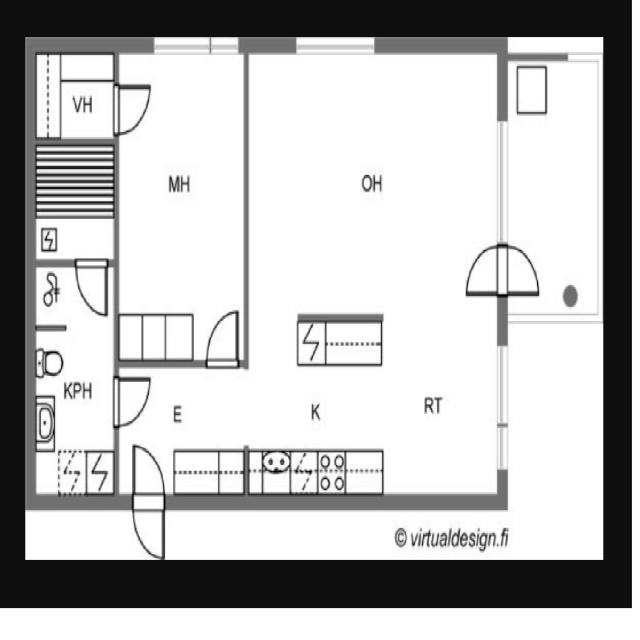door: (128, 440, 169, 560), (481, 238, 546, 296), (109, 365, 155, 431), (201, 304, 243, 372), (459, 241, 508, 297), (72, 256, 114, 318), (110, 78, 154, 136)
window: (489, 111, 515, 251), (288, 30, 380, 69), (148, 32, 244, 67), (492, 338, 512, 474), (560, 37, 606, 68), (492, 420, 512, 477)
zone: (243, 50, 500, 311), (236, 314, 501, 498), (115, 48, 248, 364), (500, 57, 606, 315), (34, 282, 117, 503), (117, 369, 250, 501), (35, 137, 116, 260), (40, 50, 118, 142)
